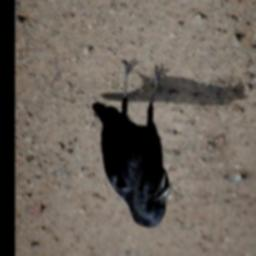Crow: (93, 60, 172, 228)
